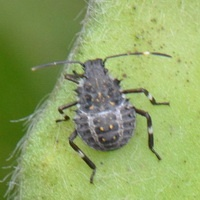insect: (32, 51, 171, 182)
